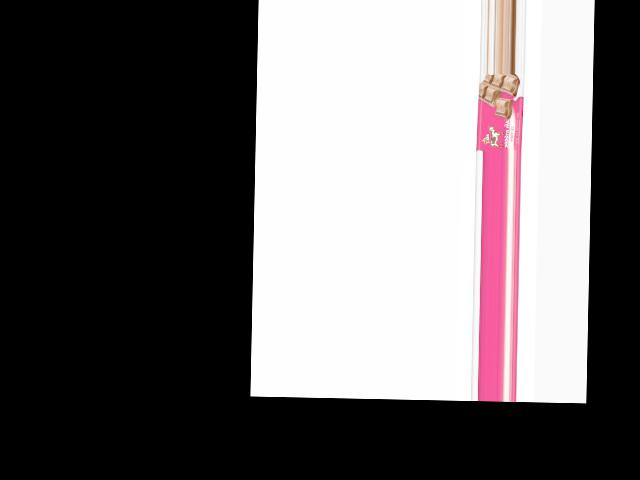chocolate: (476, 74, 523, 152)
